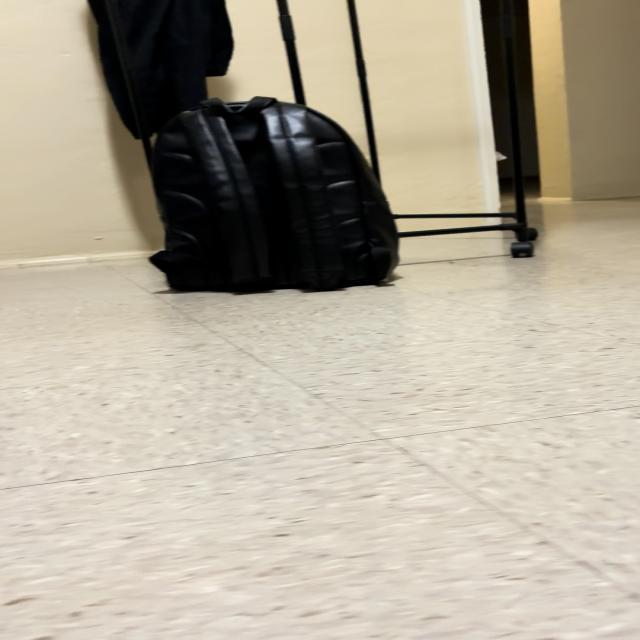backpack: (150, 97, 398, 291)
